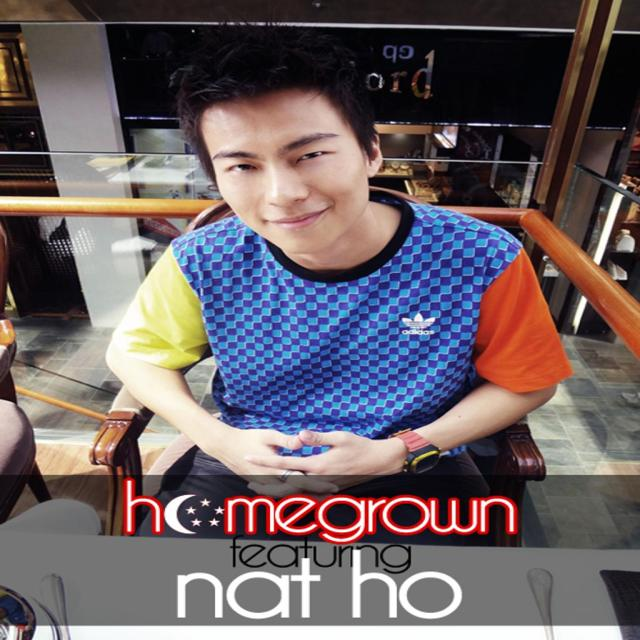Face: (195, 95, 374, 238)
